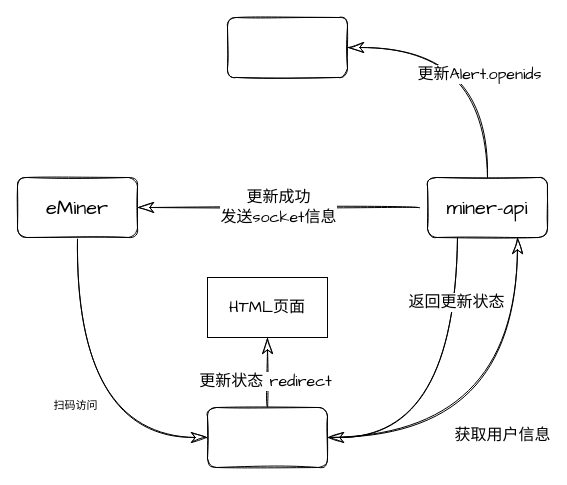
Some shapes in this 567 by 485 pixel diagram are drawn without their labels. Here are the shapes that lost their labels. From the top down, the box of each, then its label:
(226, 16, 348, 78): subject-api
(206, 406, 328, 468): 微数API
